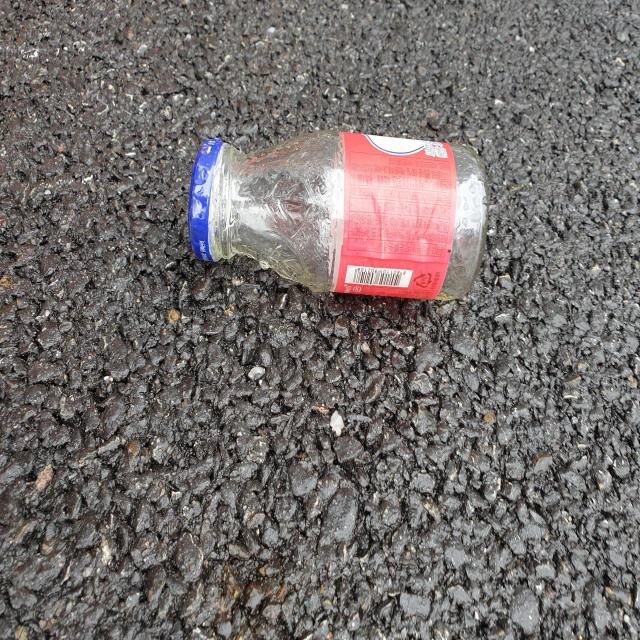glass: (188, 130, 488, 299)
